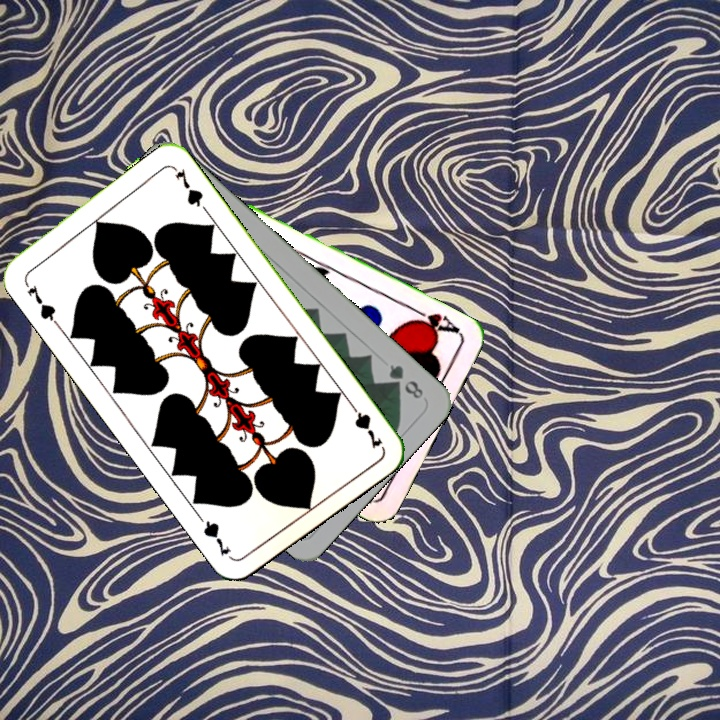G7: (344, 397, 385, 451), (22, 280, 61, 328)
G8: (384, 360, 426, 402)
HA: (405, 303, 463, 338)
